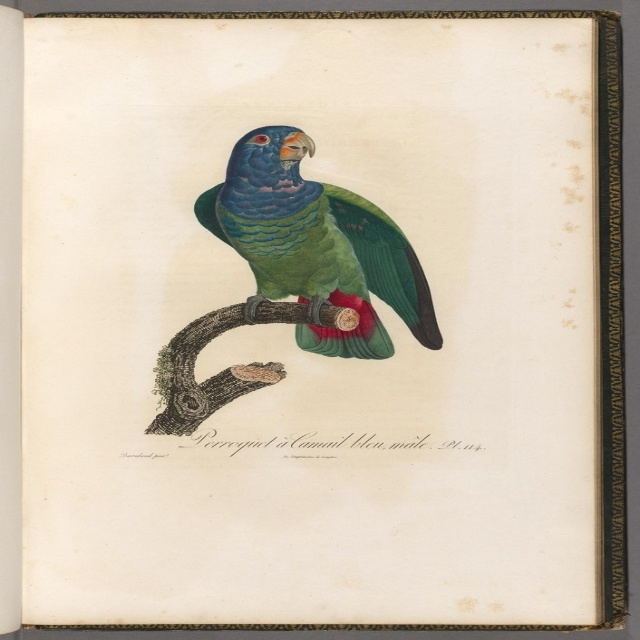Parrot: (185, 120, 447, 359)
